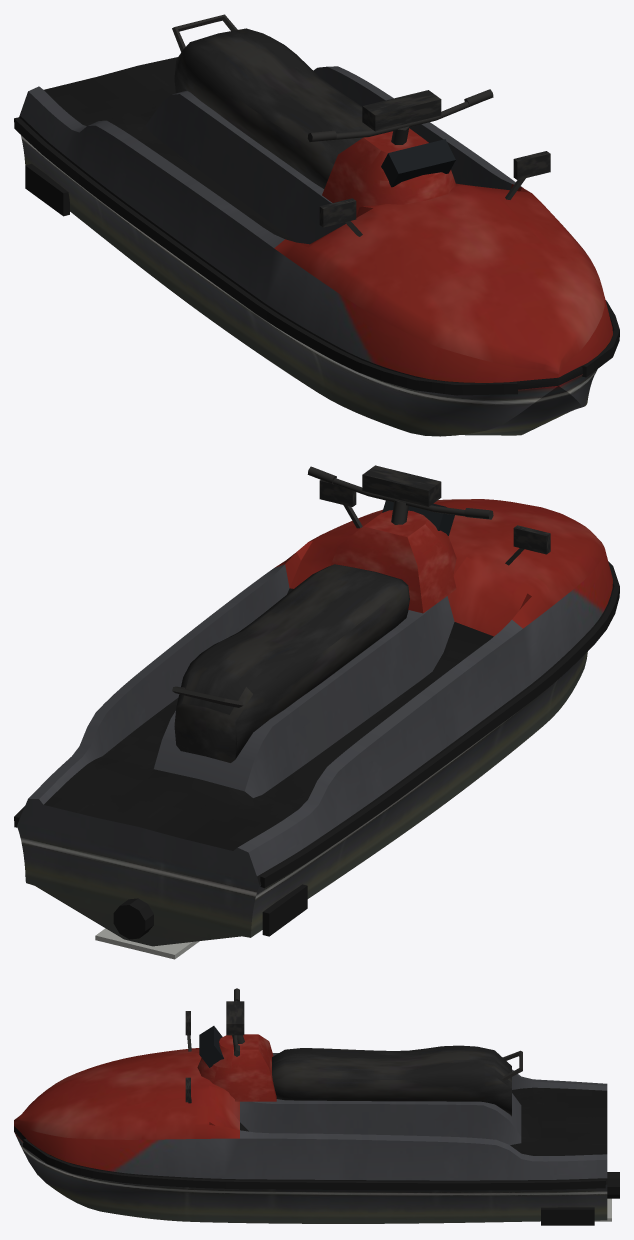
Rendered from jetSki-b-lod0.glb.
3 views of the same model, one above another, from view 1: azimuth 30°, elevation 25°; view 2: azimuth 150°, elevation 25°; view 3: azimuth 270°, elevation 25° (orthographic). The views are drawn at different scales.
Visible parts, largest first — view 1: Hull, Superstructure; view 2: Hull, Superstructure; view 3: Hull, Superstructure.
Part boxes in pixels (box(x1,y1,x2,y2)): Hull: box(14, 57, 619, 436); Superstructure: box(172, 14, 550, 236); Hull: box(14, 499, 619, 959); Superstructure: box(172, 465, 550, 762); Hull: box(14, 1048, 619, 1225); Superstructure: box(185, 988, 522, 1116).
Size of the model in its own units: 1.27 by 1.2 by 3.37.
1 material, 1 textured.
